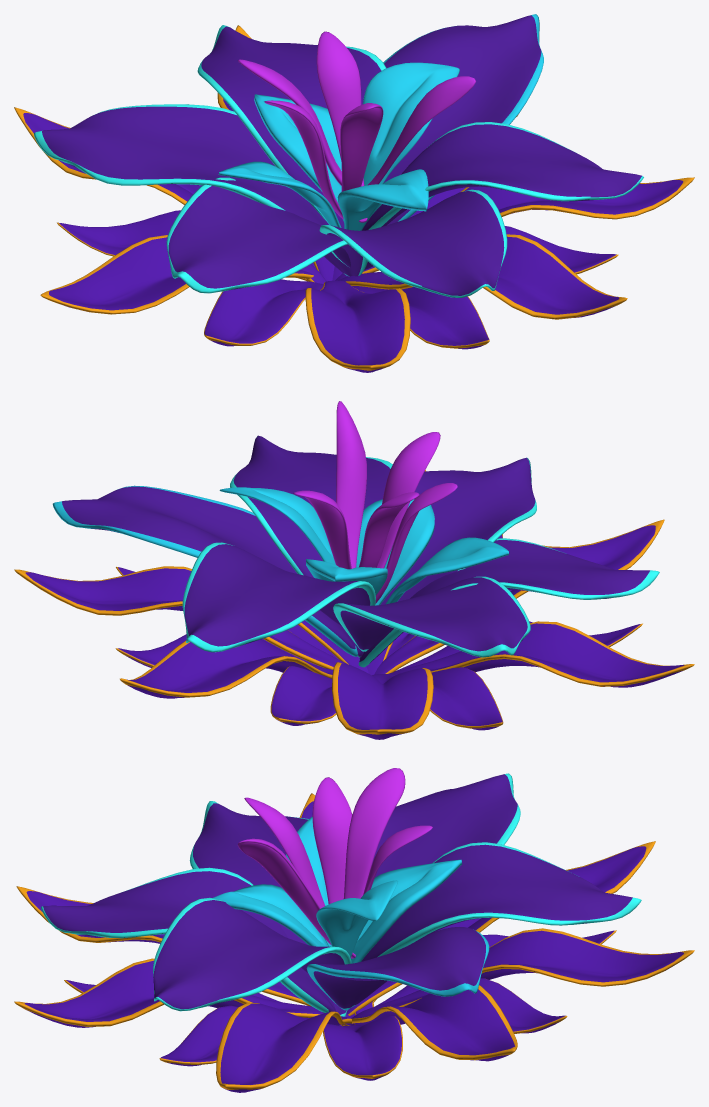
The model's file is FLOWER`.fbx.
3 views of the same model, one above another, from view 1: azimuth 30°, elevation 25°; view 2: azimuth 150°, elevation 25°; view 3: azimuth 270°, elevation 25° (orthographic). The views are drawn at different scales.
Visible parts, largest first — view 1: Plane.026, Plane.005, Plane.004, Plane.008, Plane, Plane.007, Plane.006, Plane.011, Plane.015, Plane.001, Plane.009, Plane.012 (+4 smaller); view 2: Plane.026, Plane.006, Plane.007, Plane.005, Plane, Plane.004, Plane.008, Plane.003, Plane.012, Plane.010, Plane.011, Plane.001 (+4 smaller); view 3: Plane.026, Plane.006, Plane.008, Plane, Plane.007, Plane.005, Plane.004, Plane.014, Plane.013, Plane.009, Plane.011, Plane.001 (+4 smaller).
Part boxes in pixels (box(x1,y1,x2,y2)): Plane.026: box(14, 25, 694, 372); Plane.005: box(33, 104, 328, 225); Plane.004: box(166, 177, 367, 293); Plane.008: box(362, 122, 643, 230); Plane: box(319, 189, 507, 297); Plane.007: box(383, 14, 543, 225); Plane.006: box(197, 25, 386, 228); Plane.011: box(363, 62, 459, 185); Plane.015: box(316, 31, 367, 222); Plane.001: box(337, 169, 428, 230); Plane.009: box(254, 94, 343, 221); Plane.012: box(340, 103, 383, 191); Plane.026: box(14, 470, 694, 739); Plane.006: box(182, 542, 375, 652); Plane.007: box(52, 485, 357, 656); Plane.005: box(333, 576, 530, 657); Plane: box(356, 457, 536, 657); Plane.004: box(358, 538, 659, 667); Plane.008: box(230, 435, 392, 577); Plane.003: box(336, 401, 366, 568); Plane.012: box(376, 432, 440, 568); Plane.010: box(386, 537, 508, 604); Plane.011: box(219, 487, 335, 564); Plane.001: box(356, 499, 434, 605); Plane.026: box(14, 793, 694, 1092); Plane.006: box(361, 842, 641, 961); Plane.008: box(153, 897, 351, 1011); Plane: box(41, 867, 335, 1012); Plane.007: box(306, 927, 489, 1010); Plane.005: box(372, 773, 520, 877); Plane.004: box(189, 801, 347, 1016); Plane.014: box(343, 768, 405, 898); Plane.013: box(312, 777, 352, 903); Plane.009: box(350, 859, 462, 963); Plane.011: box(316, 880, 397, 957); Plane.001: box(212, 884, 328, 946).
Bounding box in the file's own units: 503 × 199 × 494.
